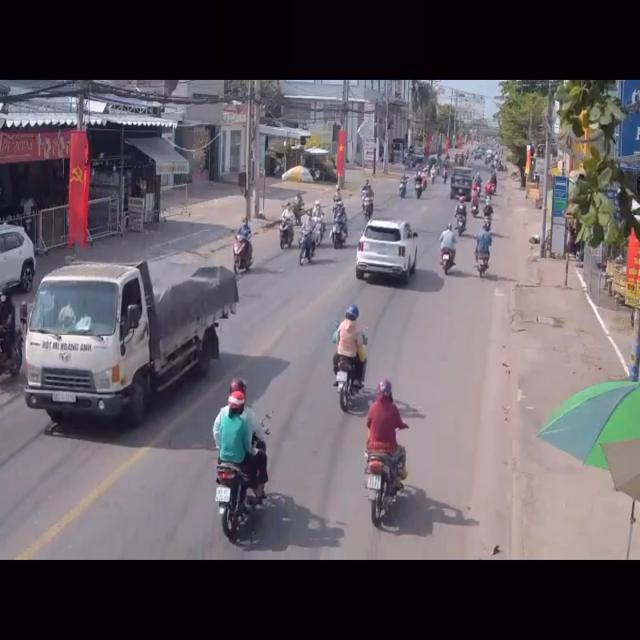car: (354, 219, 415, 288), (0, 220, 36, 287)
motorbike: (211, 379, 270, 545), (362, 378, 409, 522), (333, 305, 371, 412), (0, 290, 22, 381), (234, 217, 253, 276), (333, 196, 351, 250), (475, 225, 493, 276), (440, 225, 458, 273), (300, 213, 314, 267), (280, 204, 294, 253), (360, 180, 374, 220)
truck: (23, 258, 237, 430)
